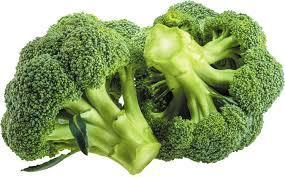broccoli: (0, 1, 284, 174), (140, 0, 284, 163)
